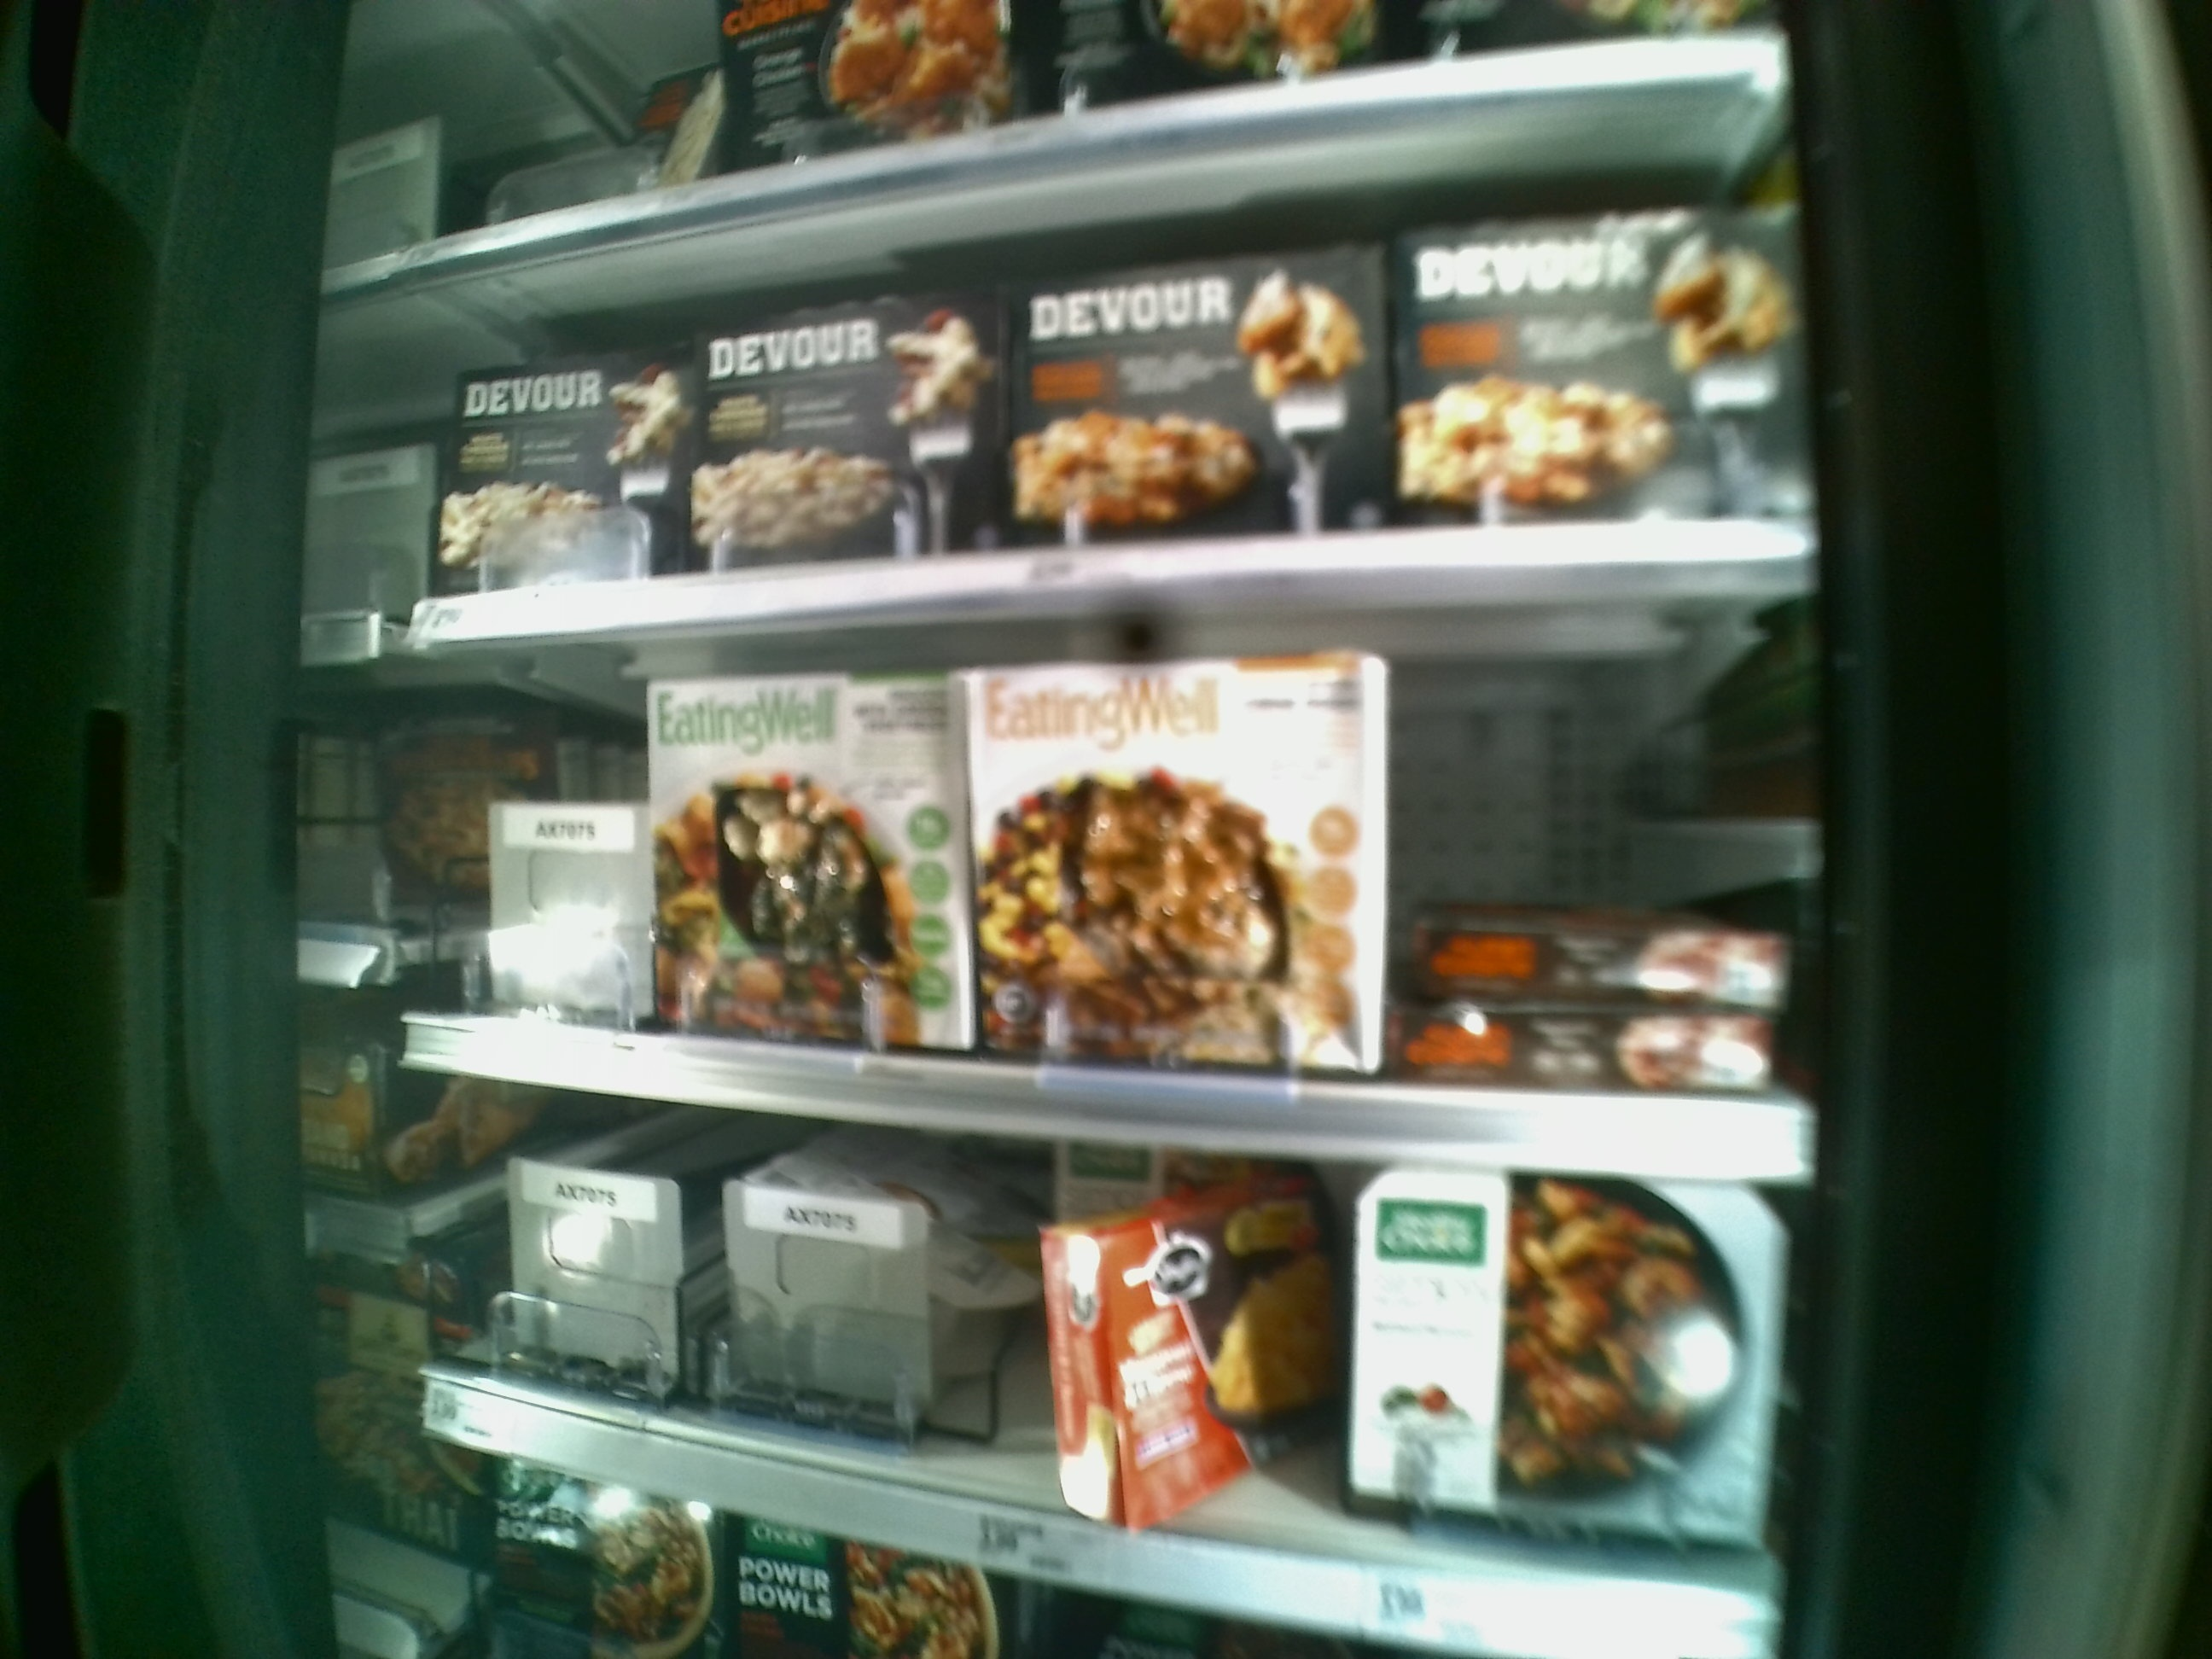shelf: (399, 575, 1811, 1171)
